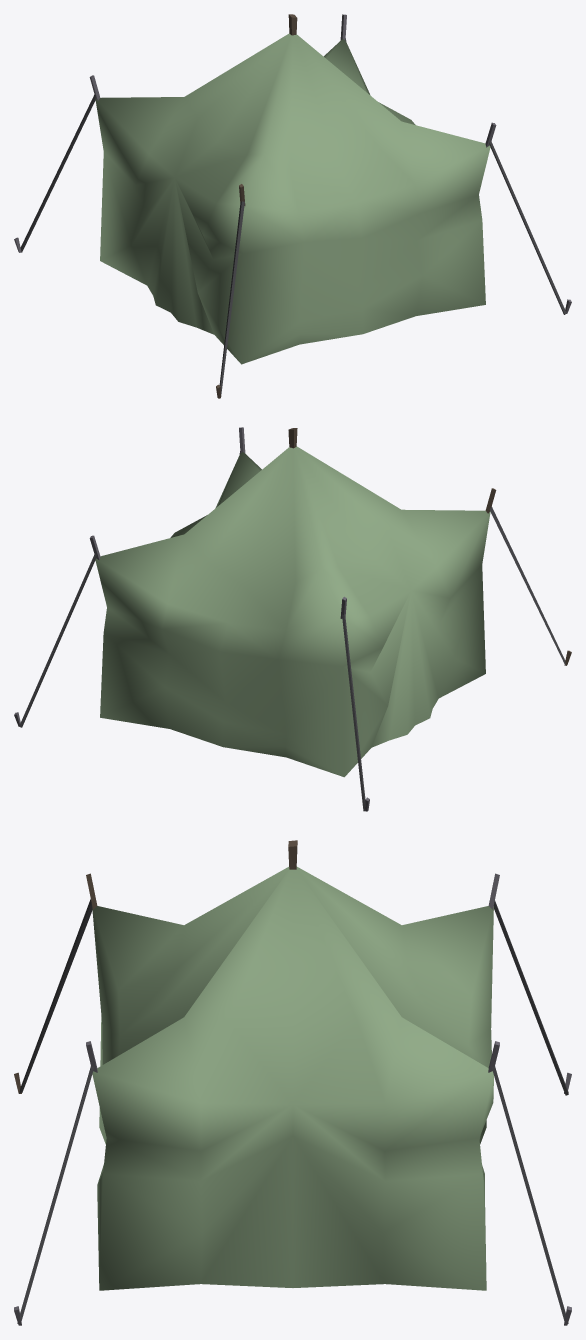
File: tent.dae
3 renders of one model, top to bottom at view 1: azimuth 30°, elevation 25°; view 2: azimuth 150°, elevation 25°; view 3: azimuth 270°, elevation 25°, orthographic. The views are drawn at different scales.
Parts seen in each view (by area): view 1: tent_proxy; view 2: tent_proxy; view 3: tent_proxy.
Part boxes in pixels (x1,y1,x2,y2): tent_proxy: [14, 14, 571, 398]; tent_proxy: [14, 427, 571, 811]; tent_proxy: [14, 840, 571, 1325].
Size of the model in its own units: 4.9 by 4.88 by 3.55.
Materials: 1 (1 with a texture image).
